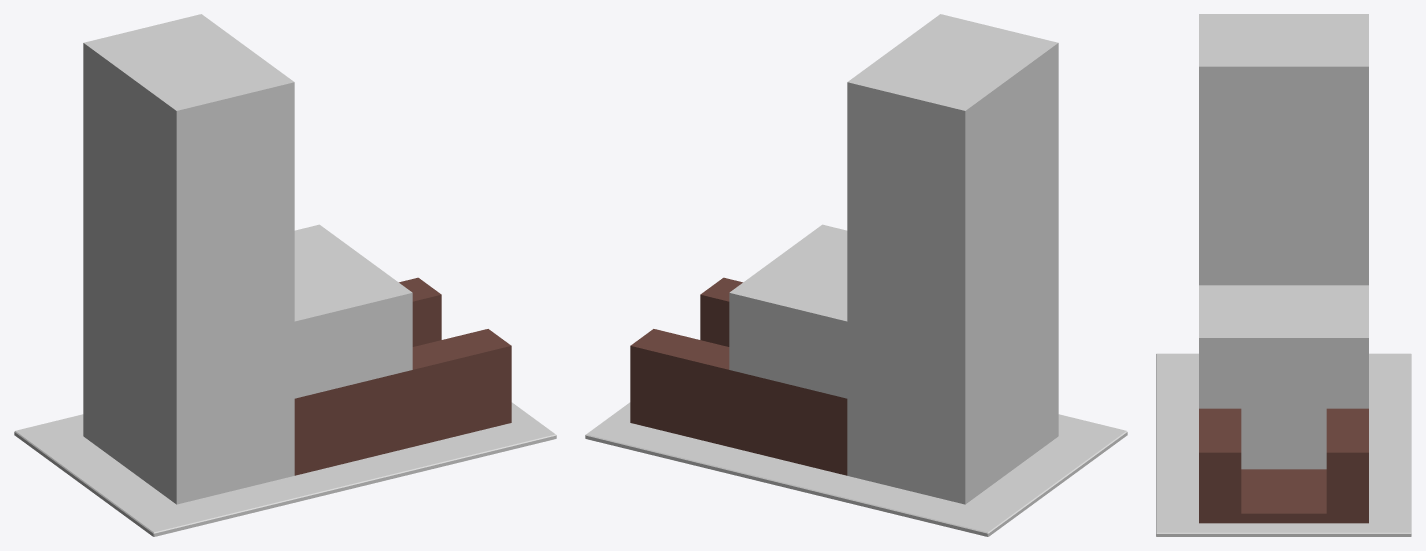
The picture shows the model from 3 angles, left to right: view 1: azimuth 30°, elevation 25°; view 2: azimuth 150°, elevation 25°; view 3: azimuth 270°, elevation 25°; orthographic projection. The views are drawn at different scales.
Parts seen in each view (by area): view 1: 5x3A; view 2: 5x3A; view 3: 5x3A.
Boxes of the visible parts, box(x1,y1,x2,y2) form: 5x3A: box(14, 14, 556, 536); 5x3A: box(585, 14, 1127, 536); 5x3A: box(1156, 14, 1411, 536).
Size of the model in its own units: 500 by 471 by 300.
